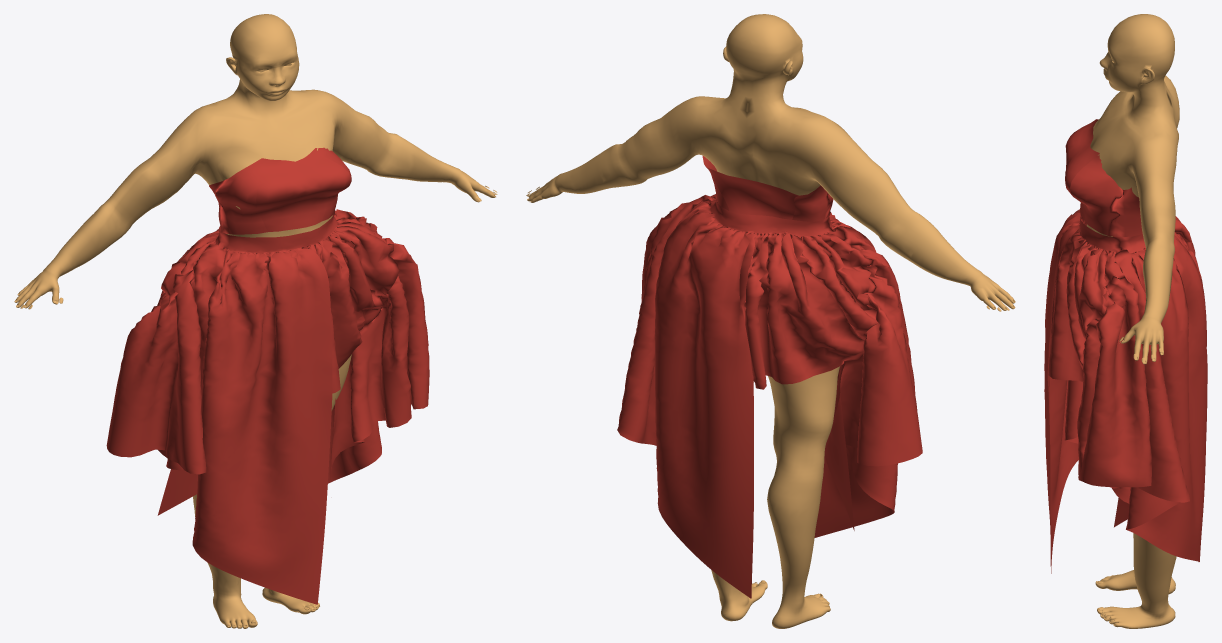
Rendered from dress2.glb.
3 renders of one model, left to right at view 1: azimuth 30°, elevation 25°; view 2: azimuth 150°, elevation 25°; view 3: azimuth 270°, elevation 25°, orthographic.
Parts seen in each view (by area): view 1: Project 1, Body; view 2: Project 1, Body; view 3: Project 1, Body.
Boxes of the visible parts, x1,y1,x2,y2 form: Project 1: [106, 147, 429, 604]; Body: [14, 14, 495, 628]; Project 1: [617, 156, 922, 598]; Body: [527, 14, 1015, 628]; Project 1: [1044, 119, 1207, 573]; Body: [1086, 14, 1179, 628].
Bounding box in the file's own units: 1.59 × 1.88 × 0.4668.
